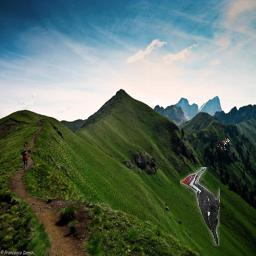Woodpecker: (180, 168, 220, 247), (214, 138, 230, 150)
